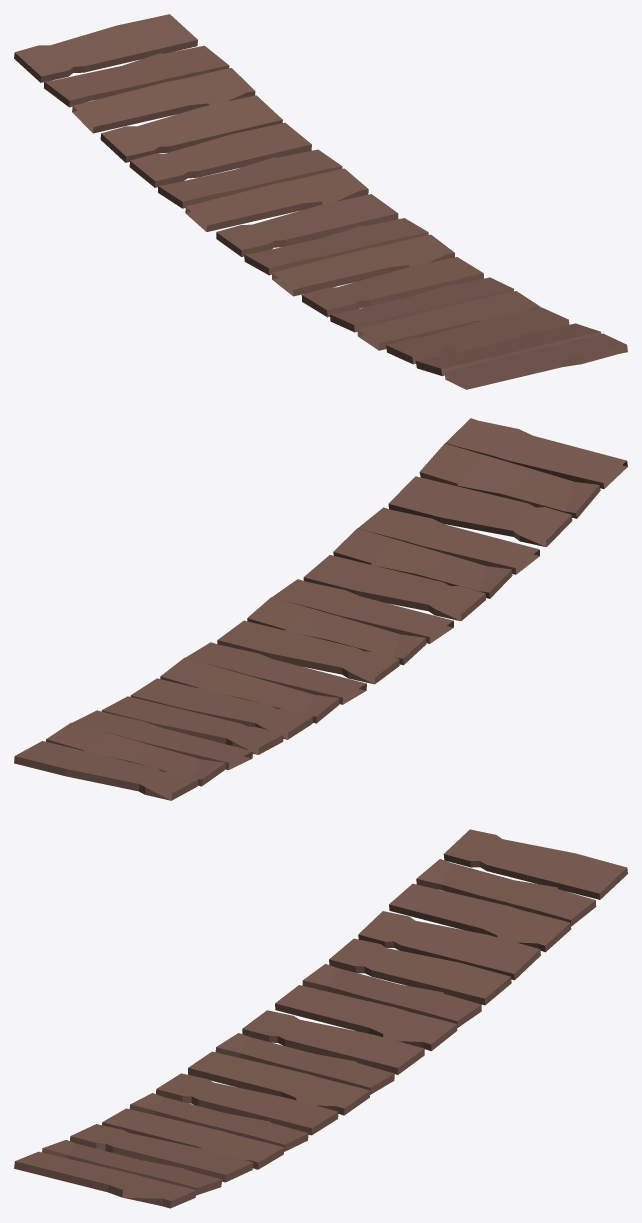
Rendered from bridgeAI.glb.
3 views of the same model, one above another, from view 1: azimuth 30°, elevation 25°; view 2: azimuth 150°, elevation 25°; view 3: azimuth 330°, elevation 25° (orthographic).
Visible parts, largest first — view 1: bridge1-col; view 2: bridge1-col; view 3: bridge1-col.
Part boxes in pixels (x1,y1,x2,y2): bridge1-col: (14, 14, 627, 389); bridge1-col: (14, 418, 627, 800); bridge1-col: (14, 829, 627, 1208).
Size of the model in its own units: 2 by 0.5198 by 9.97.
